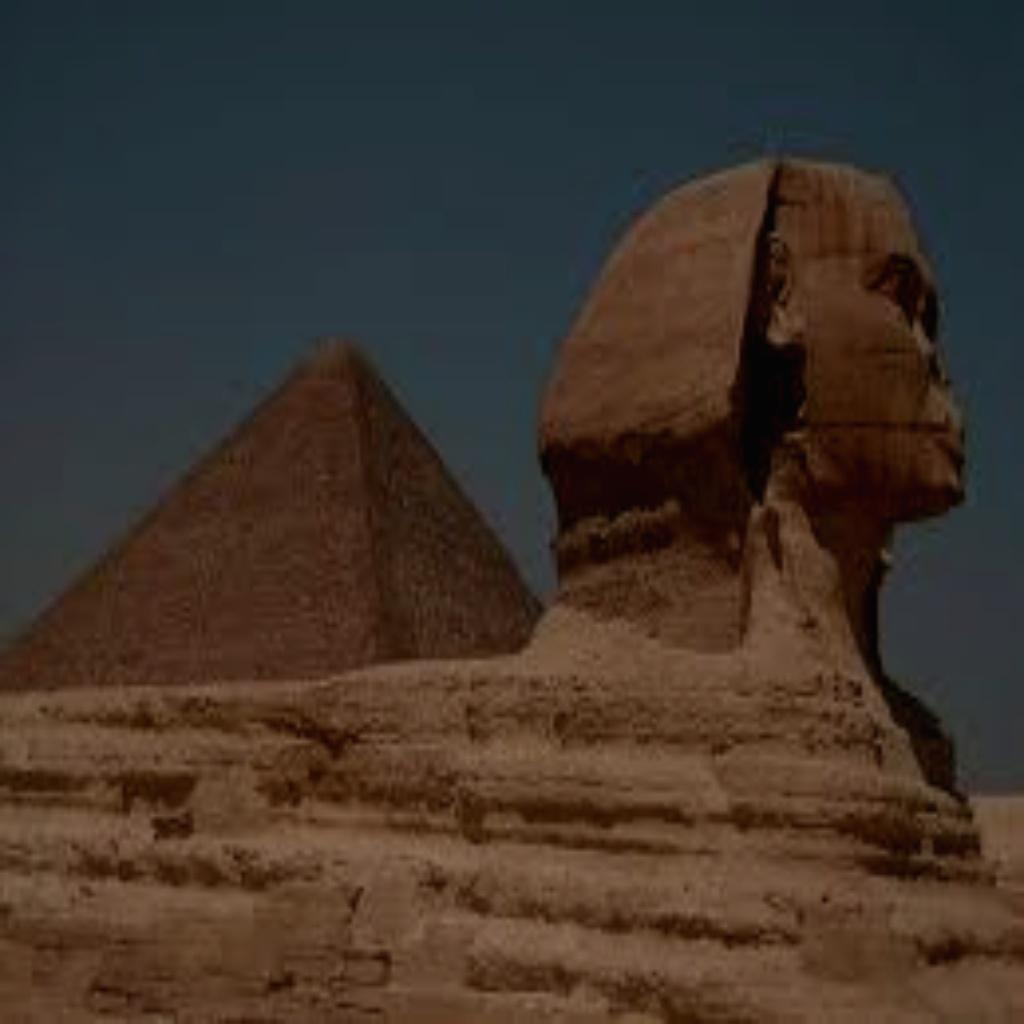Sphinx: (526, 148, 972, 797)
